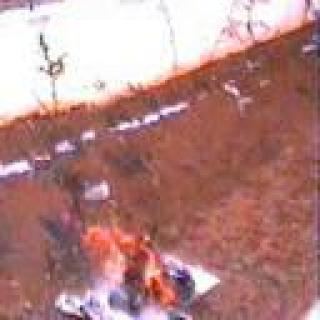fire: (59, 211, 190, 320)
